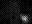person: (21, 17, 28, 22)
